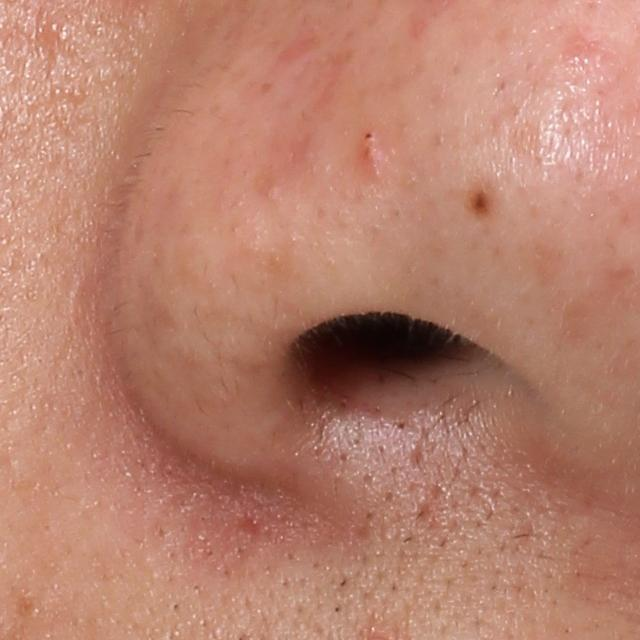nevus: (468, 186, 494, 216)
